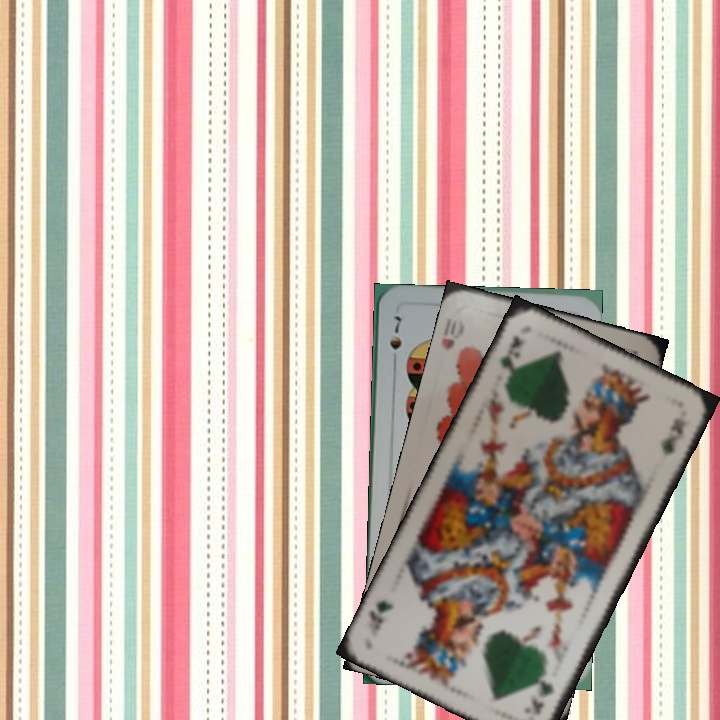GK: (496, 331, 525, 385), (527, 676, 557, 717)
H10: (437, 313, 467, 354)
S7: (385, 312, 405, 368)
